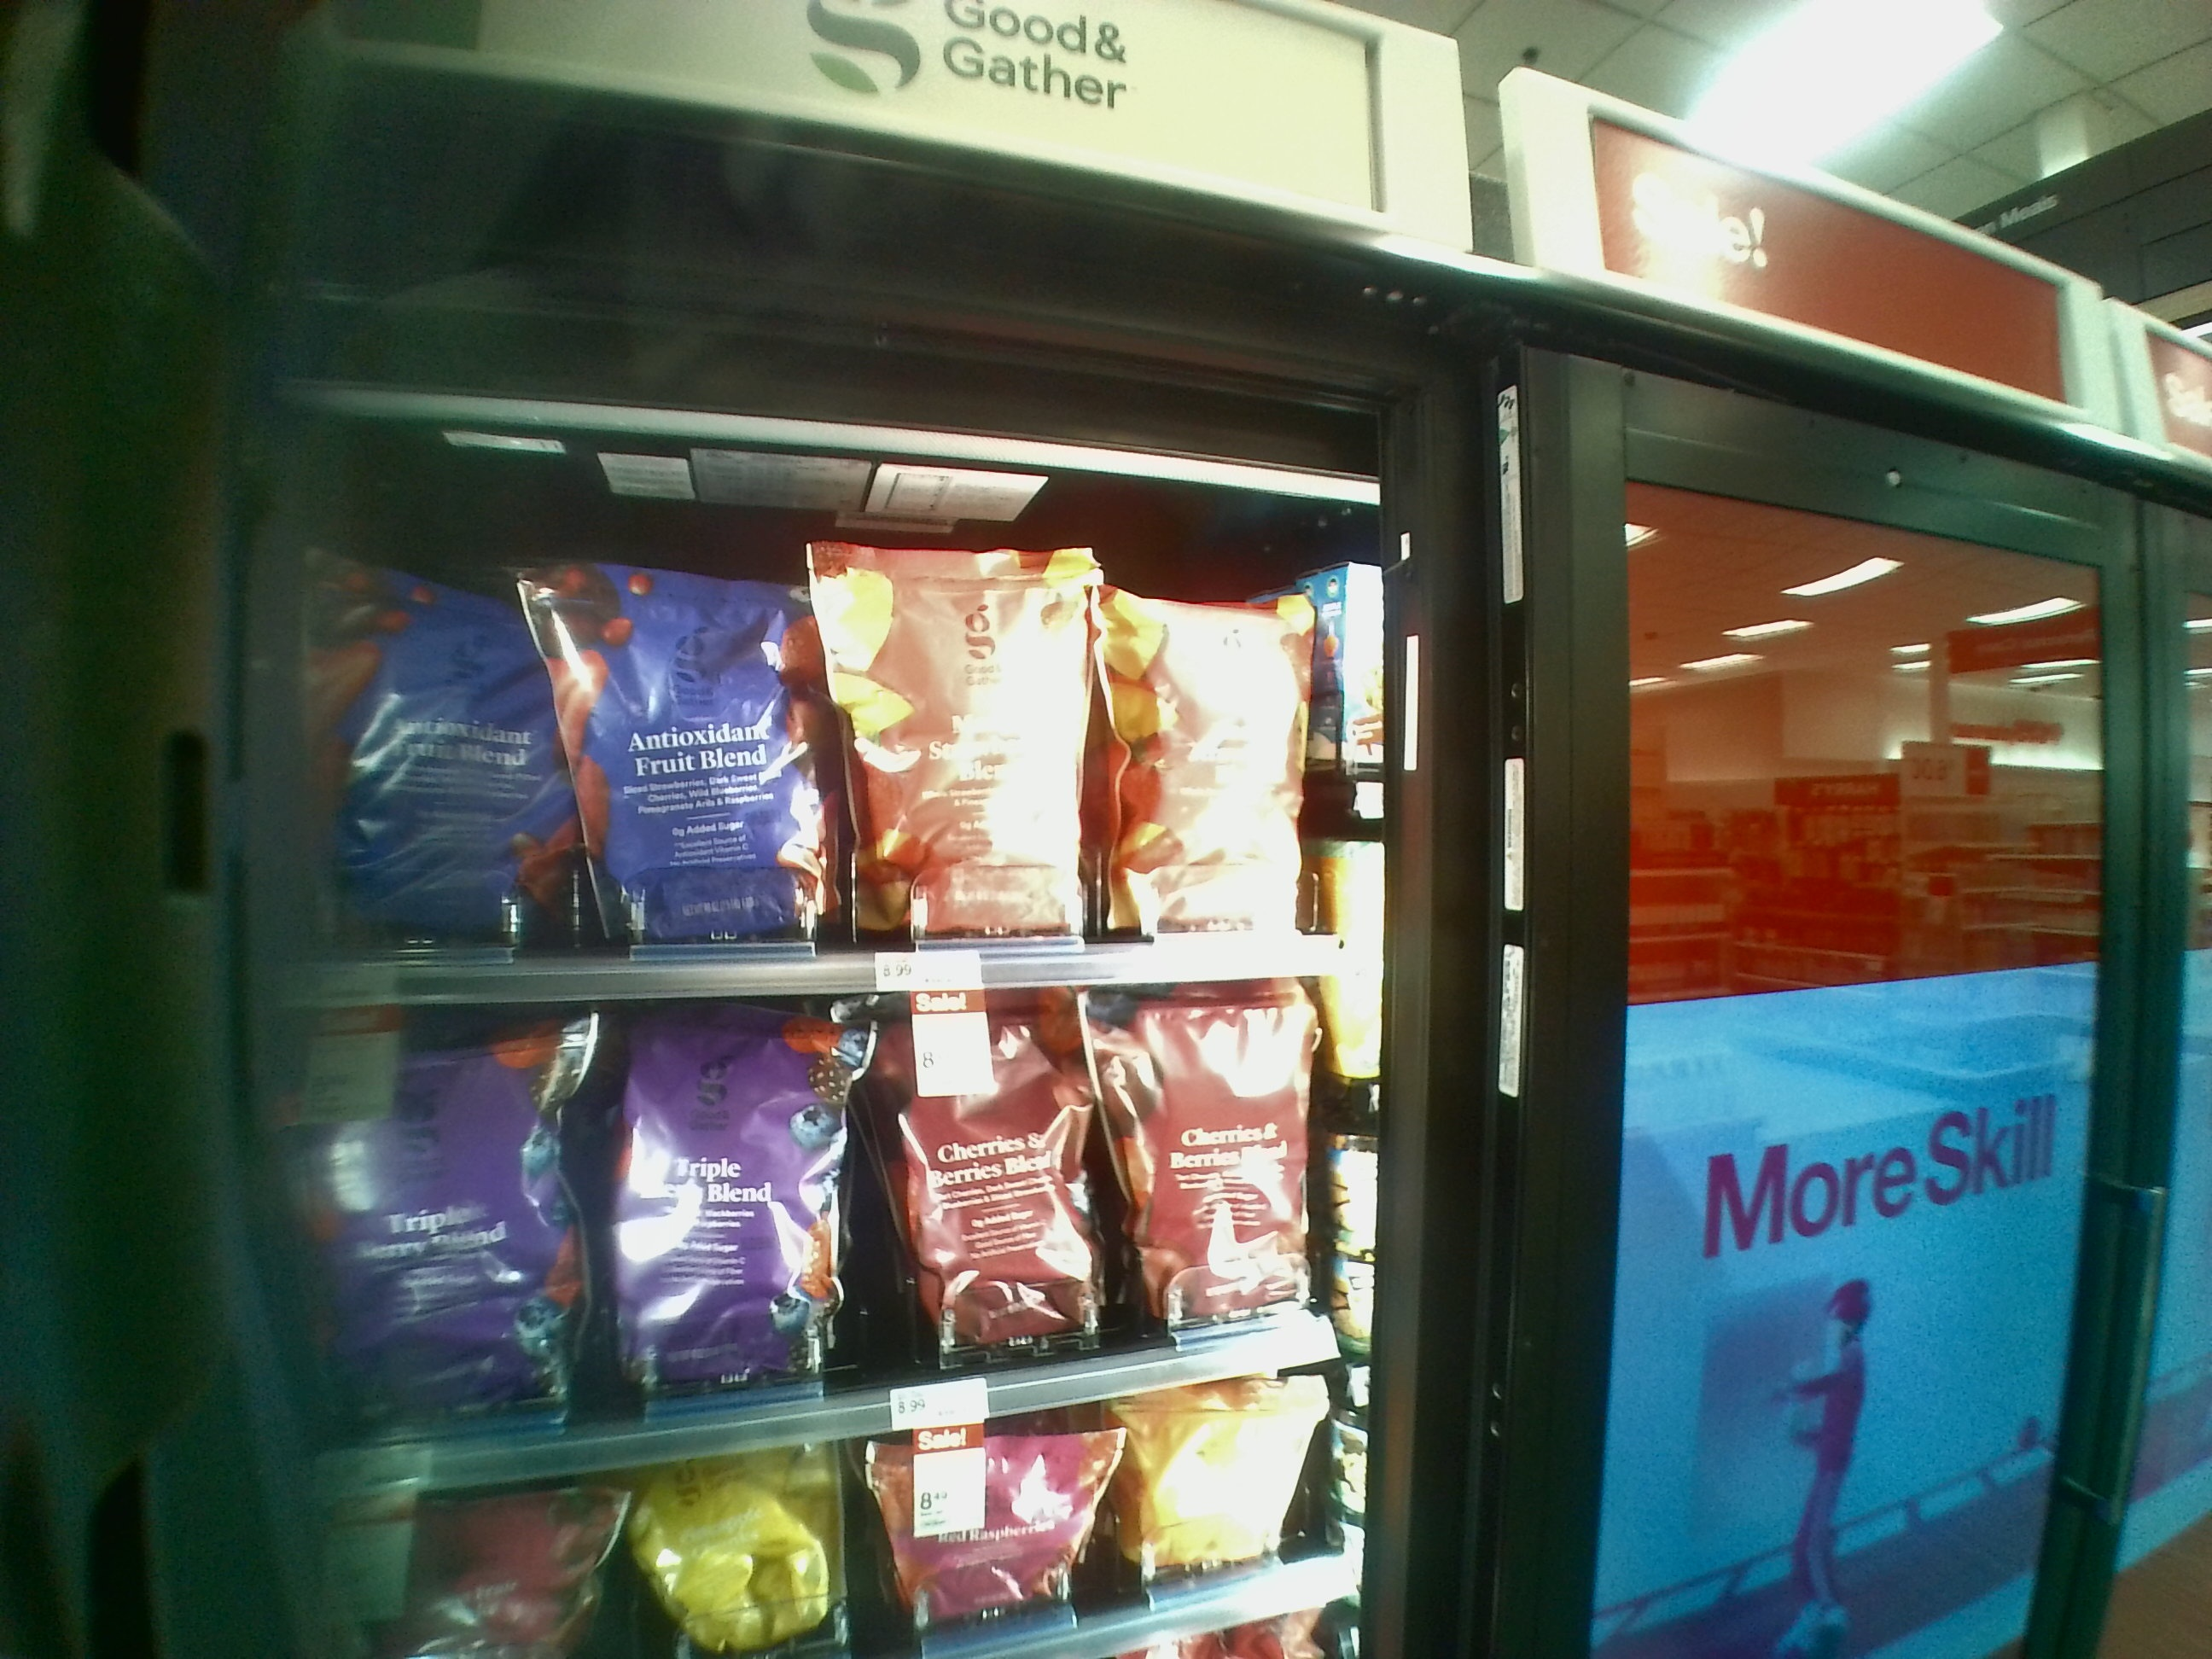shelf: (273, 406, 1406, 993), (294, 974, 1392, 1438)
